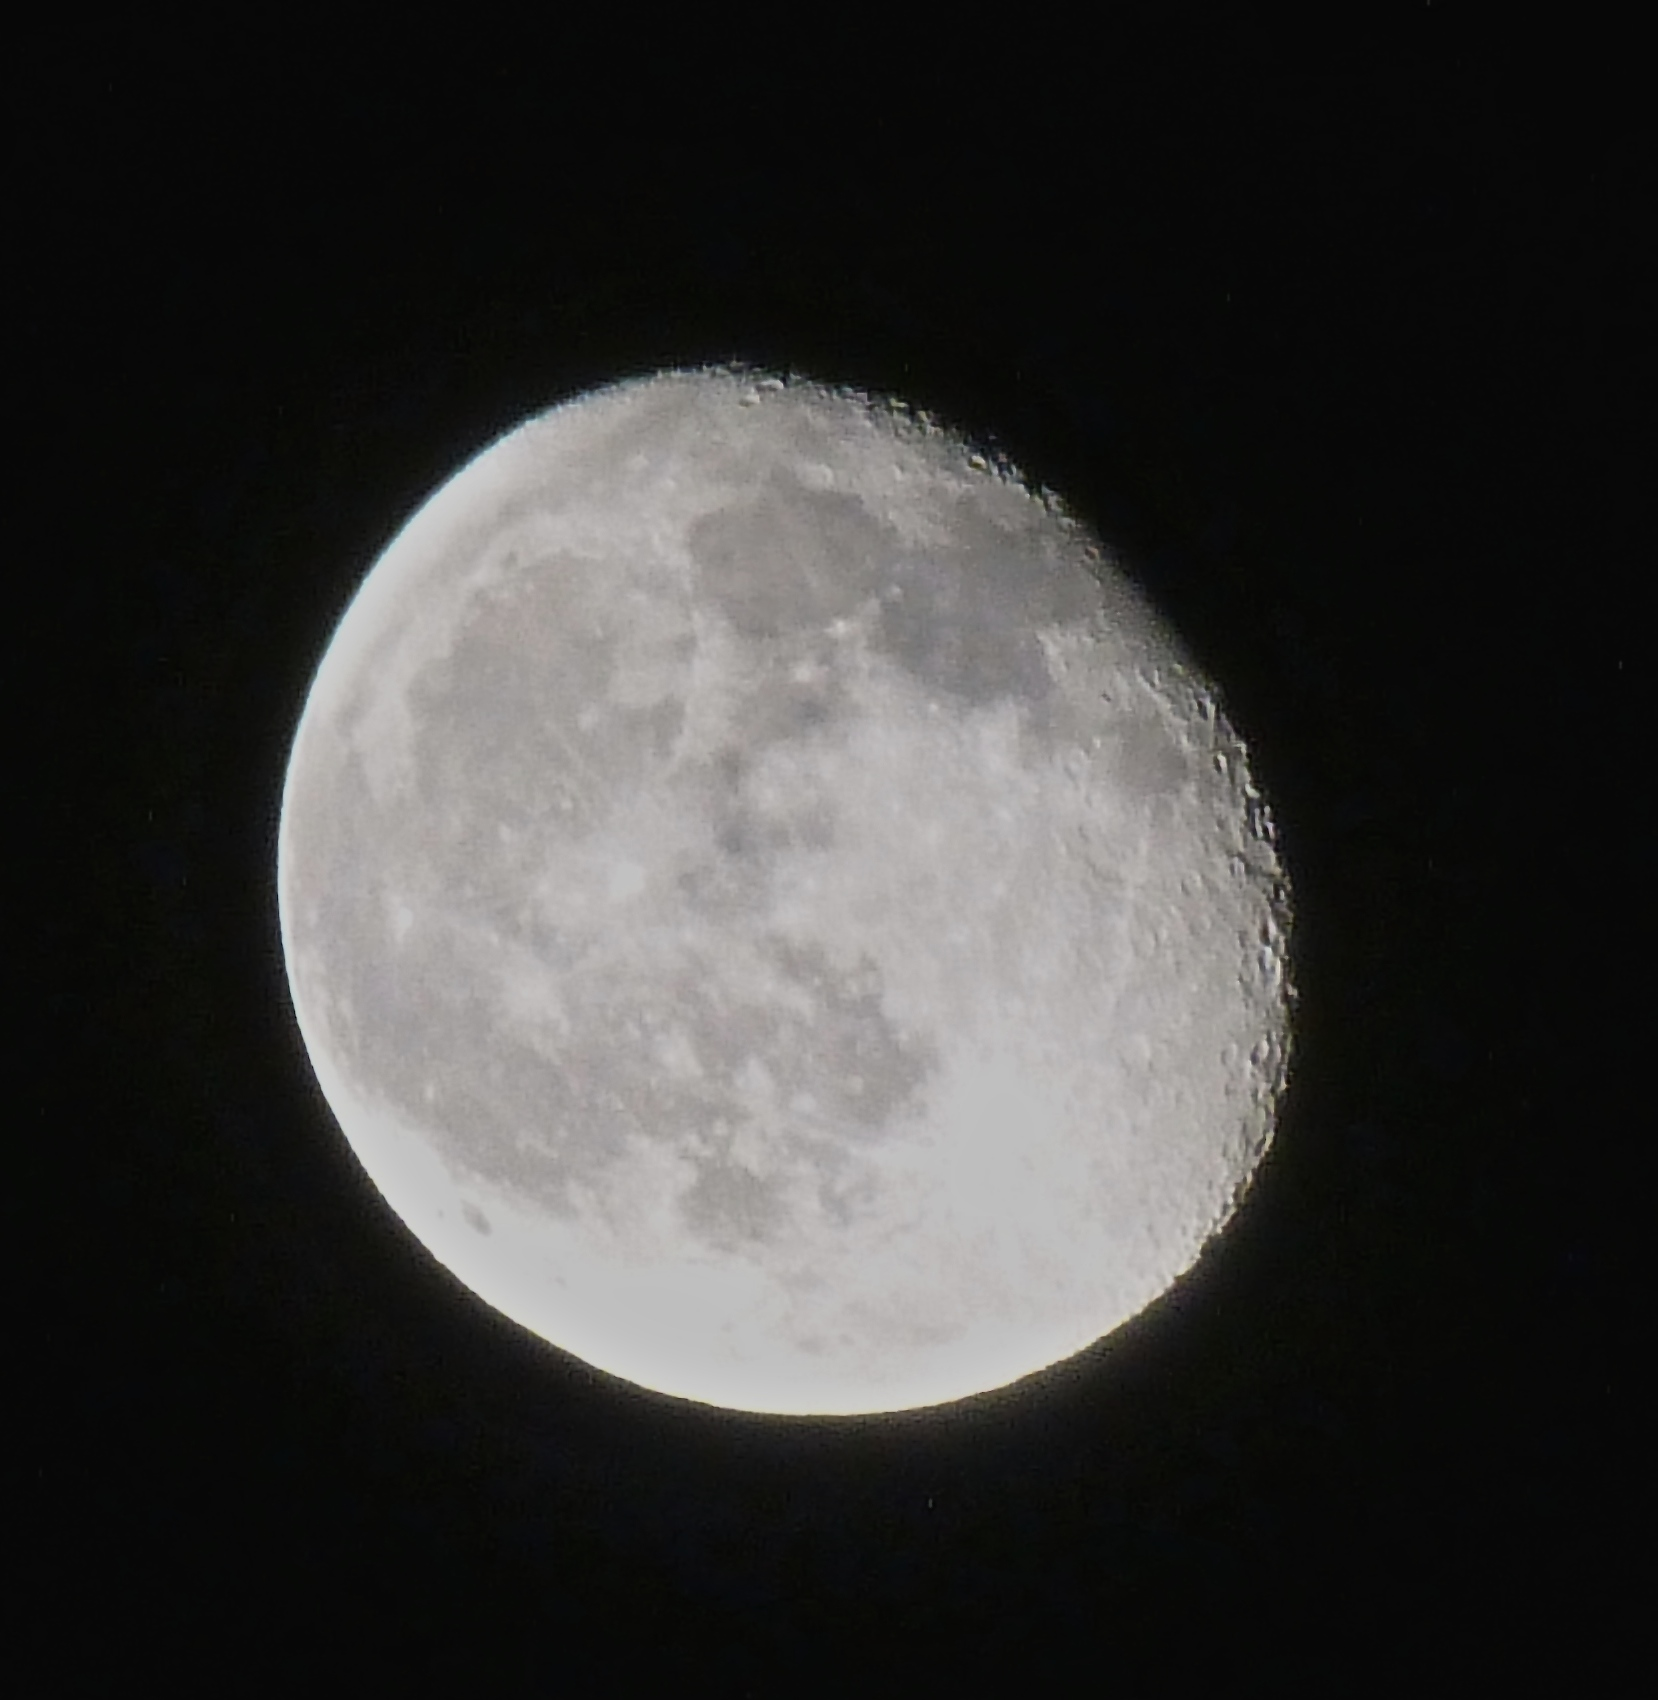crater: (534, 801, 720, 964), (774, 442, 853, 502), (872, 559, 932, 628), (519, 1002, 575, 1059), (779, 647, 835, 697), (909, 678, 954, 730), (569, 697, 607, 744), (726, 389, 777, 419), (495, 539, 528, 578), (800, 956, 827, 996), (793, 864, 824, 892)
